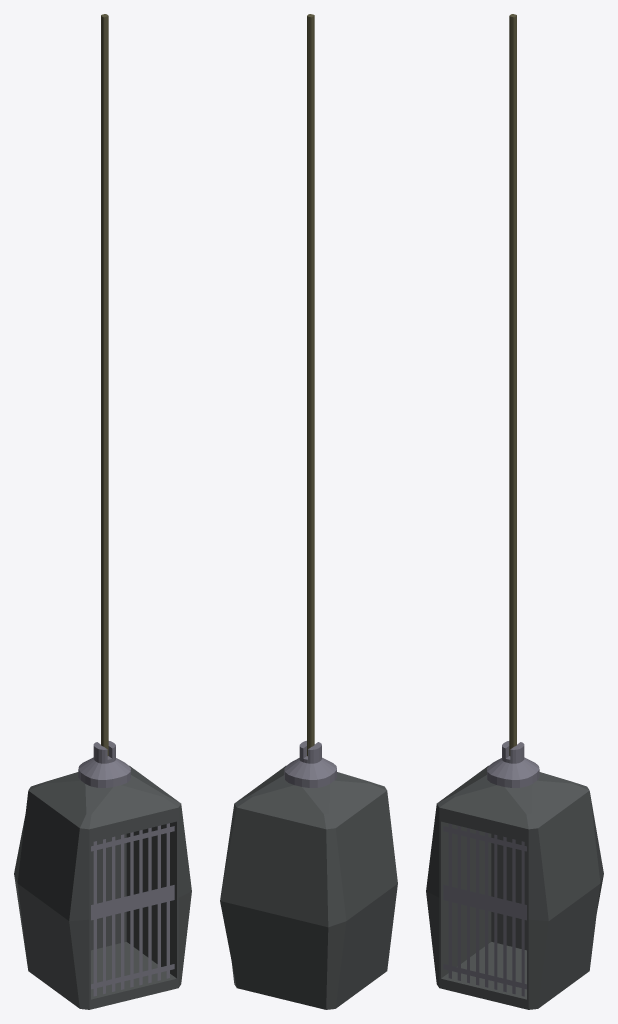
Rendered from Lift.fbx.
The picture shows the model from 3 angles, left to right: view 1: azimuth 30°, elevation 25°; view 2: azimuth 150°, elevation 25°; view 3: azimuth 330°, elevation 25°; orthographic projection.
Visible parts, largest first — view 1: Cabin, Gate, Rope; view 2: Cabin, Rope; view 3: Cabin, Gate, Rope.
Boxes of the visible parts, bbox=[...] form: Cabin: bbox=[14, 741, 191, 1009]; Gate: bbox=[91, 823, 174, 996]; Rope: bbox=[101, 14, 108, 755]; Cabin: bbox=[220, 740, 397, 1009]; Rope: bbox=[307, 14, 314, 756]; Cabin: bbox=[426, 741, 603, 1009]; Gate: bbox=[443, 823, 526, 996]; Rope: bbox=[509, 14, 516, 755].
Bounding box in the file's own units: 242 × 1814 × 225.
